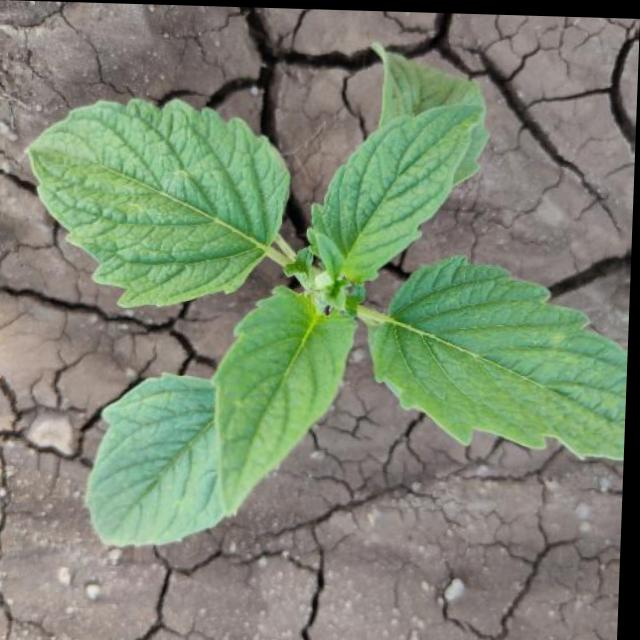weed: (18, 18, 638, 636)
